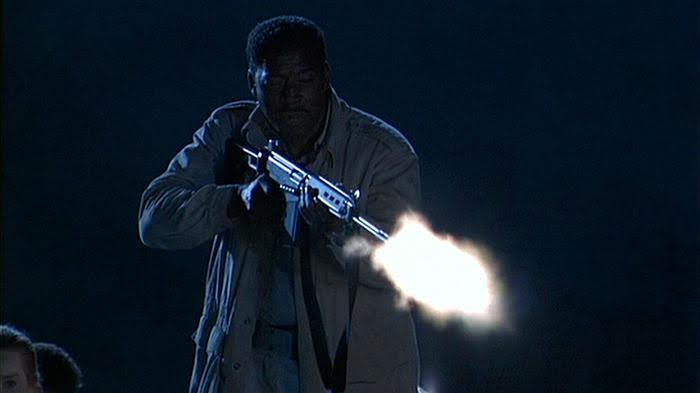gun: (223, 126, 420, 266)
